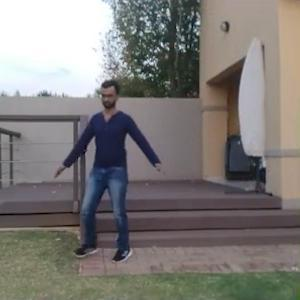land: (63, 92, 169, 266)
